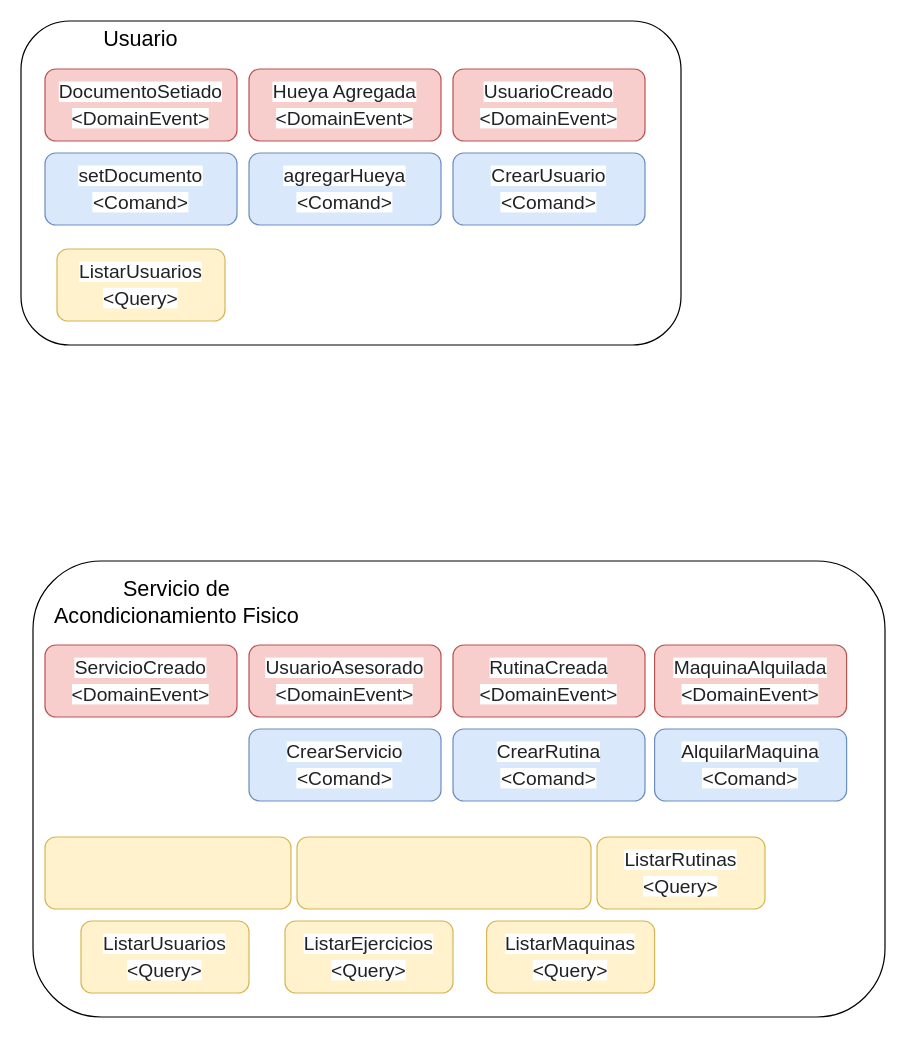
This 906x1038 diagram has some shape labels left out. The shapes that lost their labels are listed below. From the top down, each one's centre as x and y in pixels, then its label:
At (x=167, y=872): "ListarEntrenadoresPlanta <Query >".
At (x=443, y=872): "ListarEntrenadoresPersonalizado <Query >".
